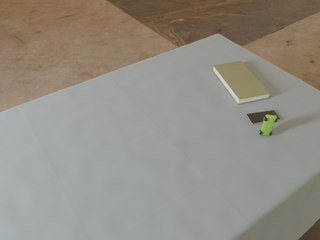book: (213, 61, 270, 104)
phone: (246, 110, 280, 124)
toy_car: (260, 114, 278, 135)
